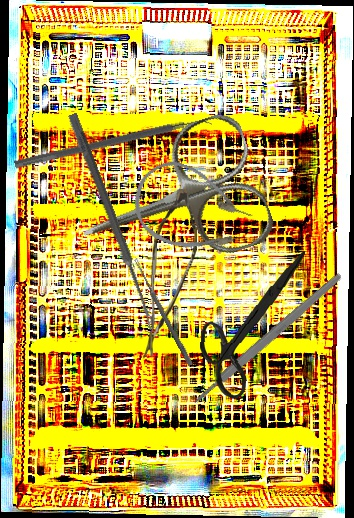Cannula: (122, 151, 261, 270)
Iris Scissors: (61, 108, 279, 297), (197, 245, 306, 403)
Micro Scissor: (142, 188, 199, 362)
Scalpel Handle: (190, 270, 345, 407)
Spatula Surgical: (13, 111, 214, 179)
Surgical Spoon: (66, 112, 159, 331), (132, 257, 194, 367)
